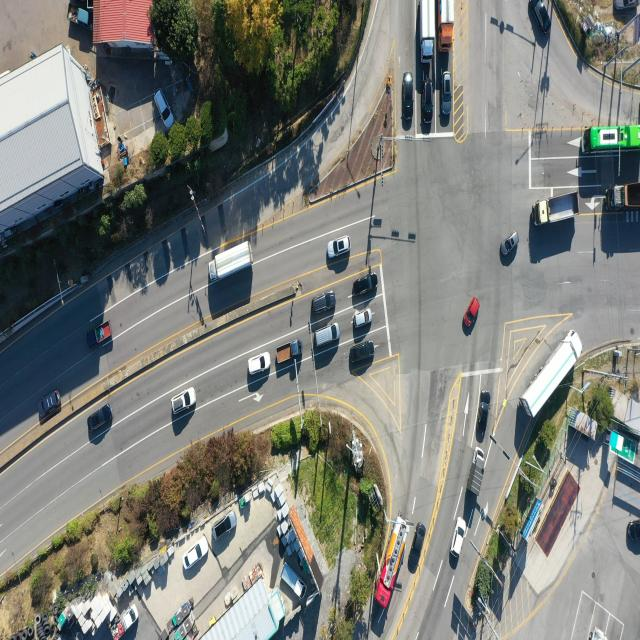car: (409, 524, 427, 575), (184, 539, 210, 572), (529, 0, 551, 36), (156, 89, 174, 130), (86, 405, 111, 434), (478, 392, 492, 443), (348, 340, 375, 366), (38, 389, 61, 419), (313, 322, 339, 348), (171, 388, 196, 415), (213, 511, 236, 540), (352, 273, 378, 298), (452, 516, 467, 558), (462, 297, 478, 335), (405, 70, 416, 125), (314, 290, 338, 314), (248, 350, 271, 375), (328, 237, 352, 259), (501, 230, 518, 257), (443, 74, 453, 115), (352, 308, 372, 328), (627, 520, 640, 544), (616, 0, 638, 11)
large_bus: (580, 122, 640, 155)
large_truck: (610, 184, 640, 213)
medium_truck: (521, 329, 583, 418), (376, 519, 406, 611), (208, 241, 252, 285), (538, 193, 579, 227), (420, 0, 438, 62), (437, 0, 454, 52)
small_truck: (108, 605, 138, 640), (280, 563, 308, 598), (468, 445, 485, 494), (87, 321, 113, 348), (275, 340, 301, 365), (68, 2, 92, 26)
